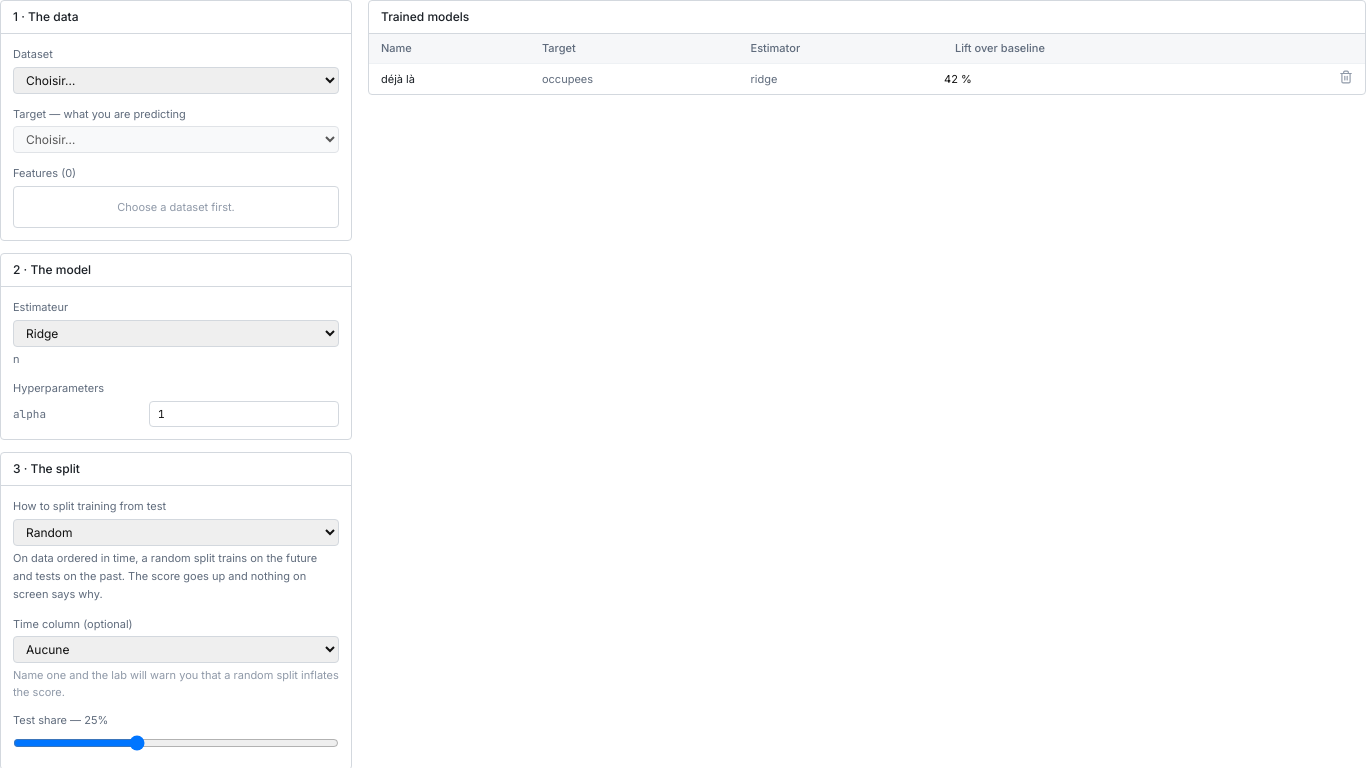
what the result says › puts the baseline beside every metric
Step 1. Click the text "déjà là" → (398, 78), box [369,63,530,94]
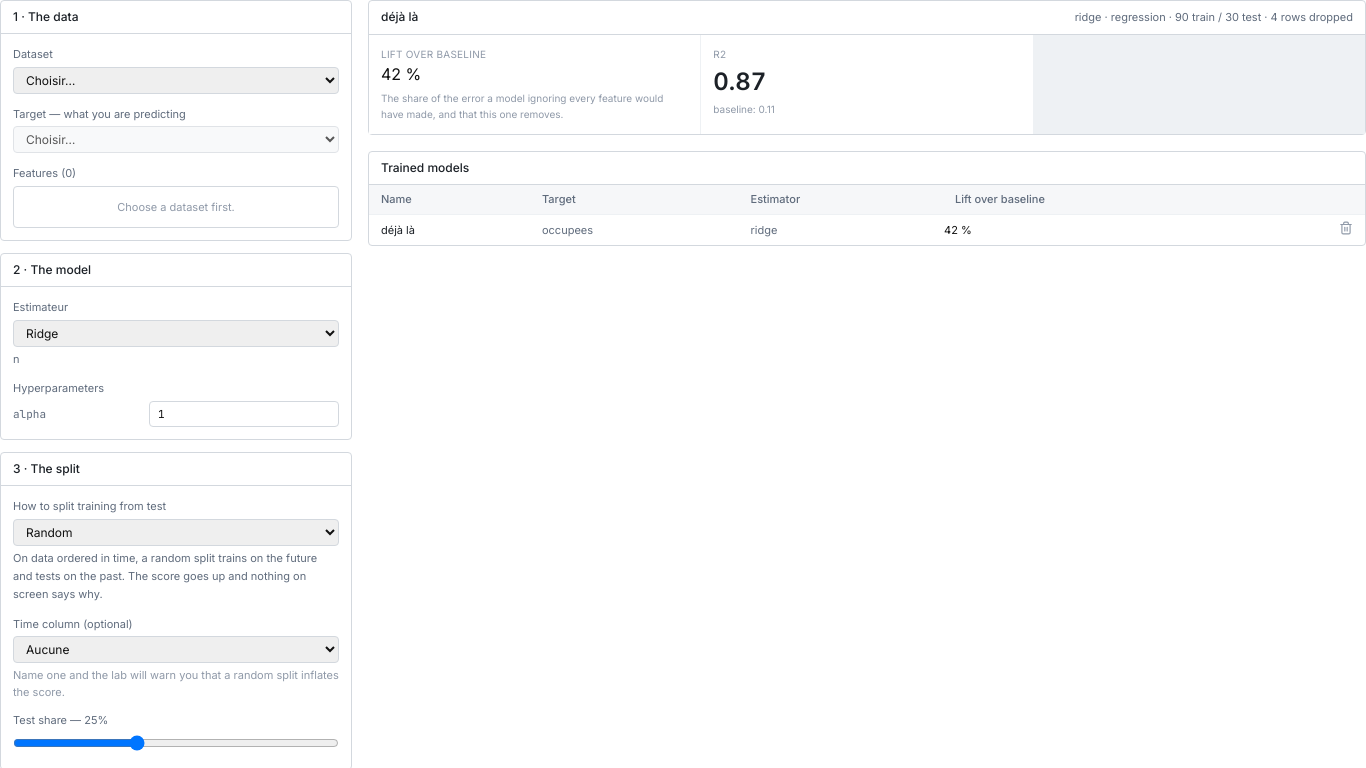
Expected: the text "baseline: 0.11" is shown, [713,102,775,114]
Expected: the text "ridge · regression · 90 train / 30 test · 4 rows dropped" is shown, [1075,9,1353,26]
